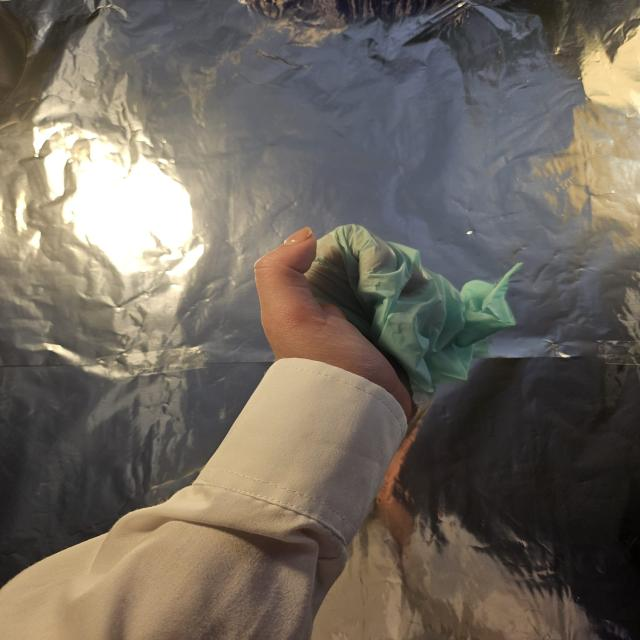glove_partial: (252, 220, 522, 417)
